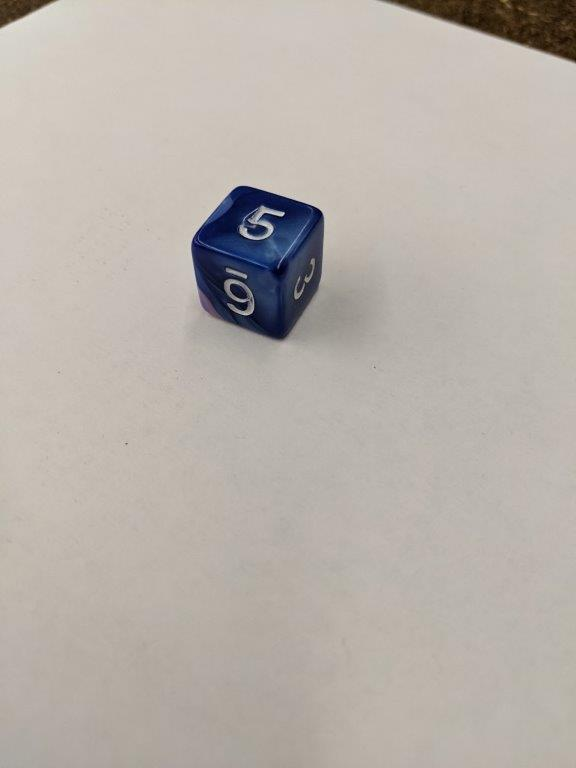d6-5: (192, 183, 324, 338)
